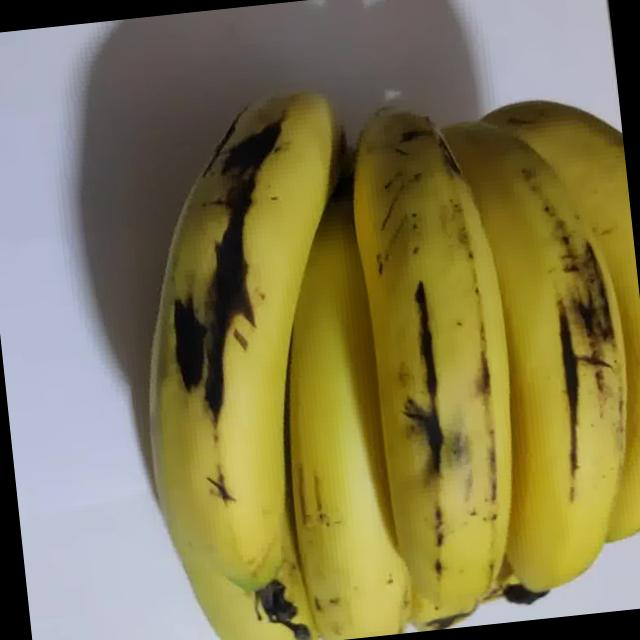banana_pacche: (86, 0, 640, 640)
